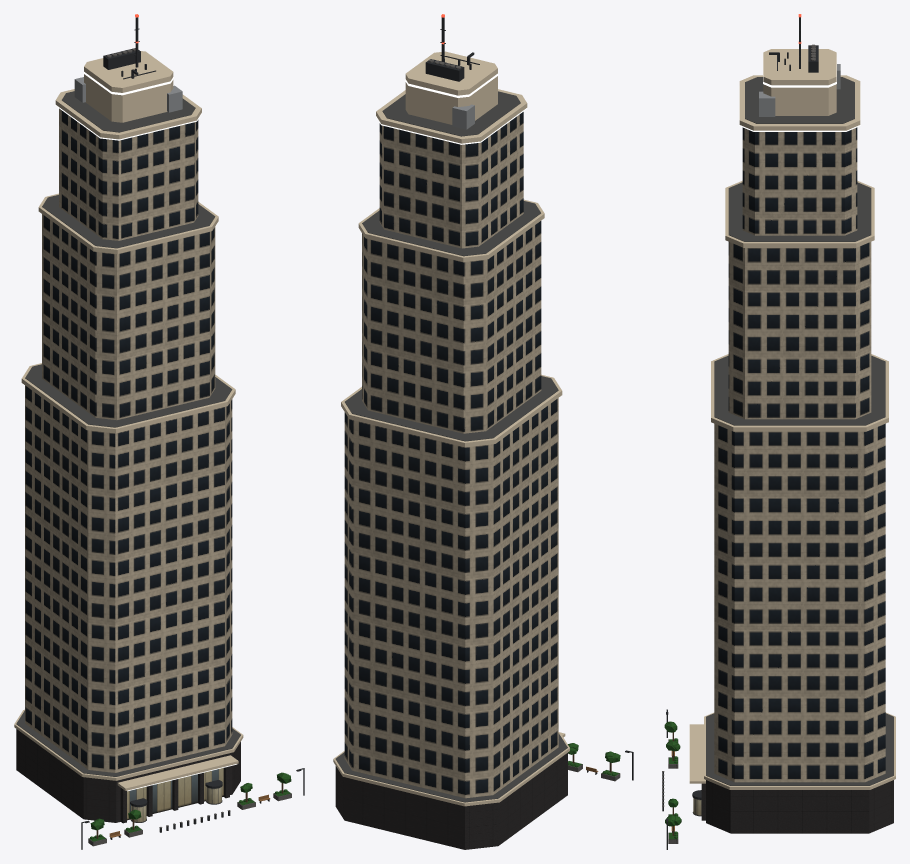
The model's file is OfficeStone.glb.
The picture shows the model from 3 angles, left to right: view 1: azimuth 30°, elevation 25°; view 2: azimuth 150°, elevation 25°; view 3: azimuth 270°, elevation 25°; orthographic projection. The views are drawn at different scales.
Parts seen in each view (by area): view 1: Facade, Cornice, Roof, Base, Lobby, Steel, Plant, Light, Mech, Planter; view 2: Facade, Cornice, Base, Roof, Steel, Light; view 3: Facade, Cornice, Roof, Base, Steel, Plant, Light, Mech.
Part boxes in pixels (left/top/right/bottom): Facade: left=25, top=108, right=232, bottom=772; Cornice: left=14, top=51, right=243, bottom=790; Roof: left=16, top=91, right=240, bottom=776; Base: left=16, top=729, right=240, bottom=823; Lobby: left=127, top=768, right=223, bottom=820; Steel: left=81, top=17, right=304, bottom=849; Plant: left=89, top=772, right=291, bottom=841; Light: left=55, top=71, right=237, bottom=791; Mech: left=74, top=77, right=182, bottom=112; Planter: left=88, top=48, right=291, bottom=846; Facade: left=344, top=112, right=558, bottom=798; Cornice: left=333, top=51, right=569, bottom=806; Base: left=335, top=753, right=567, bottom=849; Roof: left=335, top=91, right=567, bottom=802; Steel: left=425, top=17, right=633, bottom=780; Light: left=376, top=73, right=527, bottom=144; Facade: left=714, top=127, right=885, bottom=782; Cornice: left=689, top=49, right=895, bottom=789; Roof: left=706, top=77, right=893, bottom=785; Base: left=701, top=780, right=893, bottom=833; Steel: left=662, top=17, right=818, bottom=849; Plant: left=664, top=721, right=681, bottom=839; Light: left=689, top=57, right=860, bottom=782; Mech: left=759, top=64, right=840, bottom=116.
Size of the model in its own units: 130 by 423 by 115.
14 materials, 14 textured.
